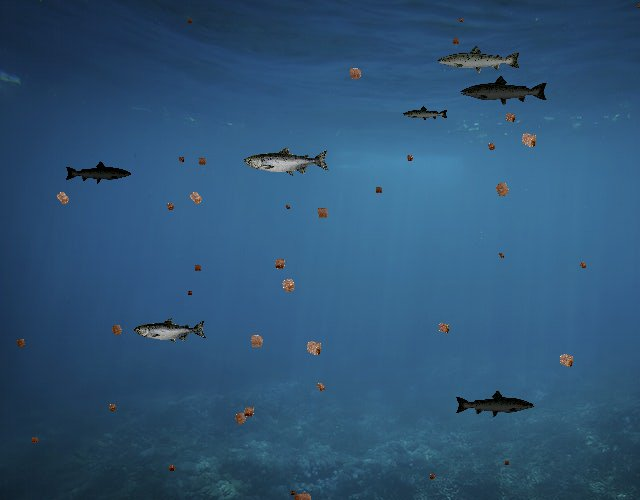Fish: (460, 75, 550, 107), (436, 44, 522, 75), (244, 146, 330, 177), (454, 390, 535, 419), (134, 317, 207, 343), (64, 160, 132, 185), (403, 106, 450, 123)
Pellet: (243, 328, 270, 355), (343, 61, 368, 86), (238, 401, 260, 423), (372, 183, 386, 197), (426, 470, 439, 483), (175, 153, 188, 166), (456, 14, 466, 24)
